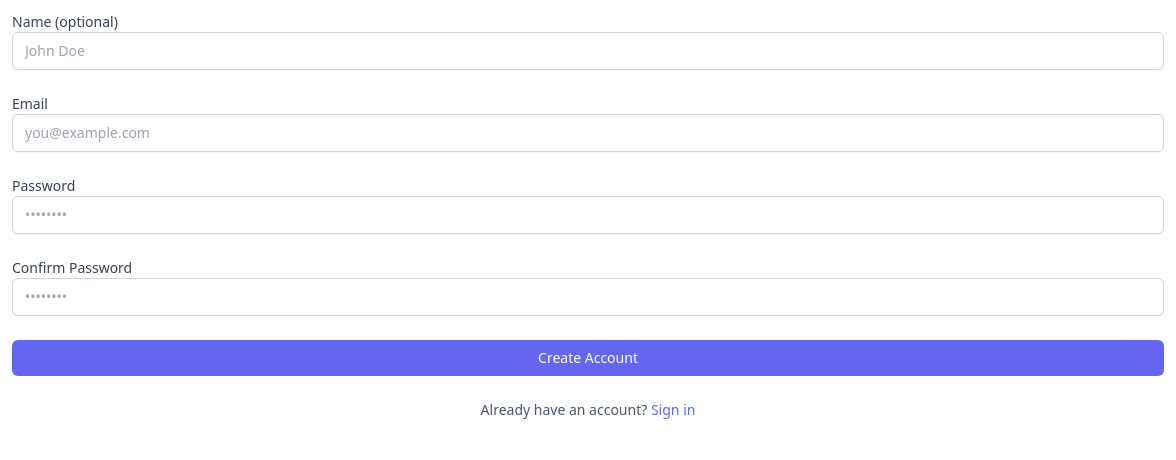
RegisterForm › Validation › should show validation error for mismatched passwords
This screenshot has width=1176, height=460.
In the field labelled "Email": (588, 133) x1=12 y1=114 x2=1164 y2=152, type "test@example.com"
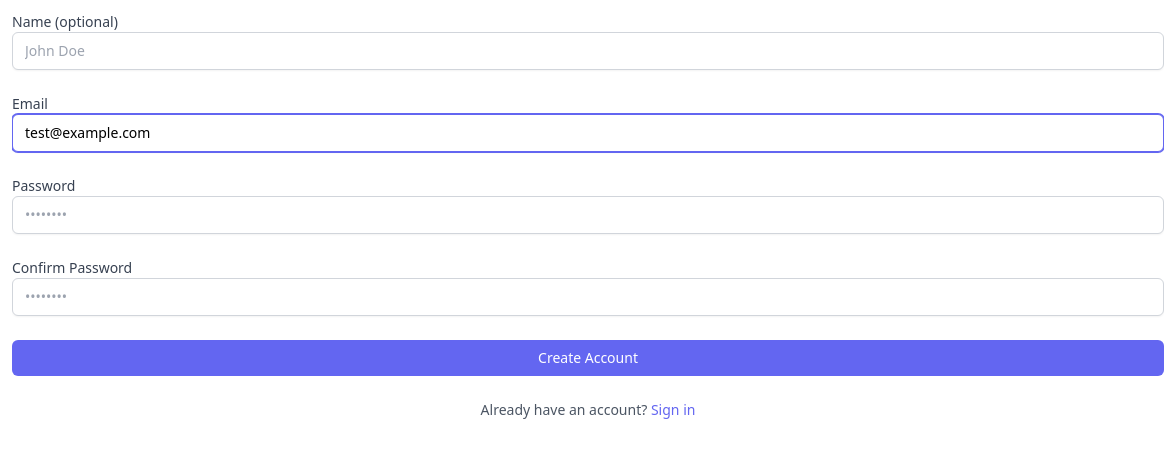
In the password field labelled "Password": (588, 215) x1=12 y1=196 x2=1164 y2=234, type "password123"
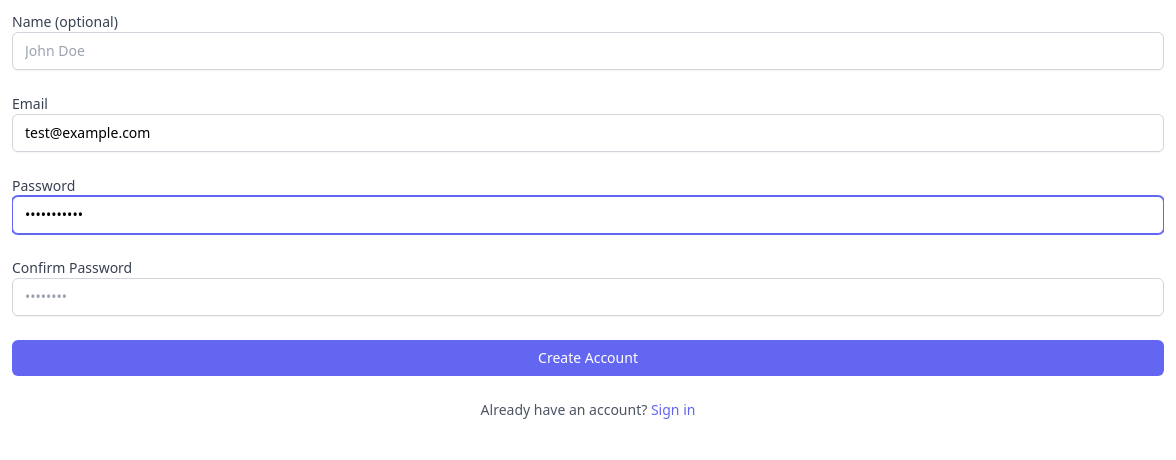
In the password field labelled "Confirm Password": (588, 297) x1=12 y1=278 x2=1164 y2=316, type "different123"
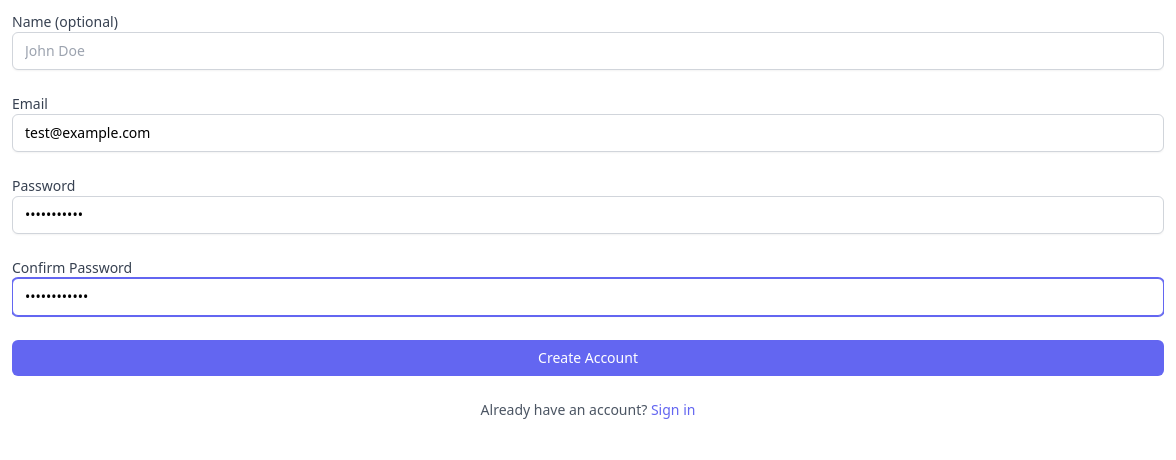
Click the button "Create Account": (588, 358) x1=12 y1=340 x2=1164 y2=376
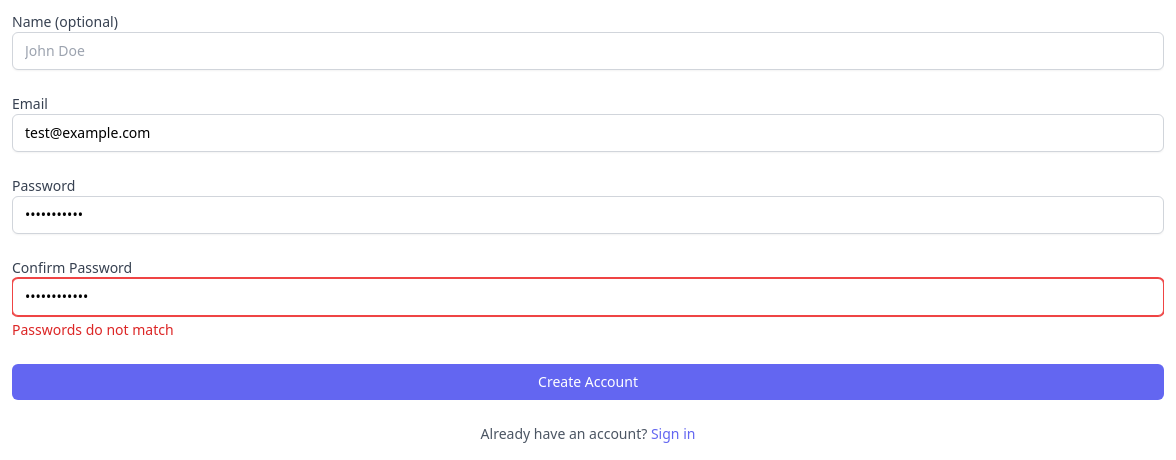
Now the text "Passwords do not match" is shown, box x1=12 y1=320 x2=174 y2=339
